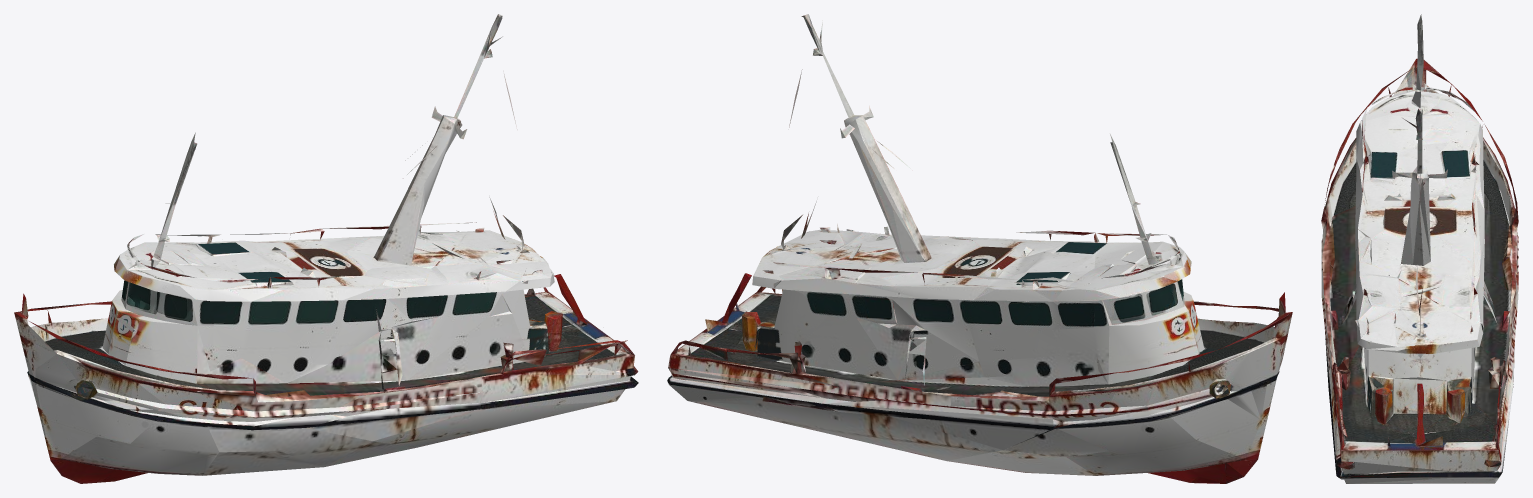
Rendered from ferry.glb.
3 views of the same model, side by side, from view 1: azimuth 30°, elevation 25°; view 2: azimuth 150°, elevation 25°; view 3: azimuth 270°, elevation 25° (orthographic). The views are drawn at different scales.
Bounding box in the file's own units: 1.9 × 1.17 × 0.6155.
Materials: 1 (1 with a texture image).
